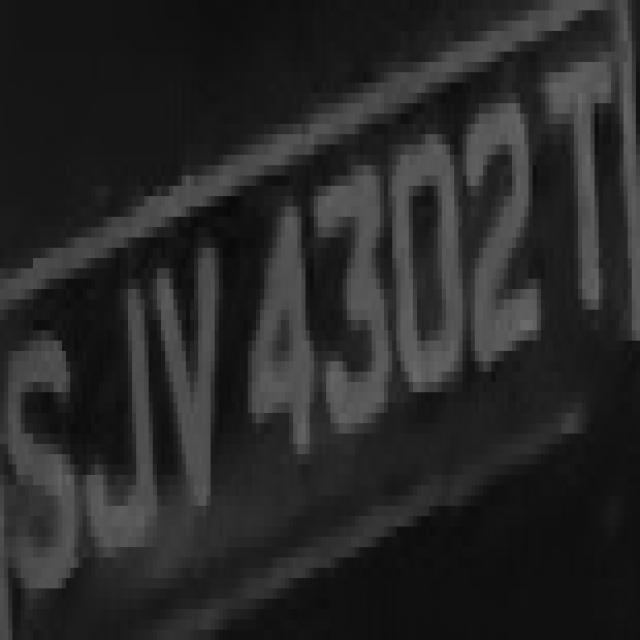0: (380, 103, 471, 413)
2: (454, 93, 541, 382)
3: (310, 155, 396, 475)
4: (244, 176, 322, 526)
J: (87, 206, 161, 599)
S: (0, 4, 1, 11)
T: (532, 21, 632, 361)
V: (140, 176, 240, 547)
